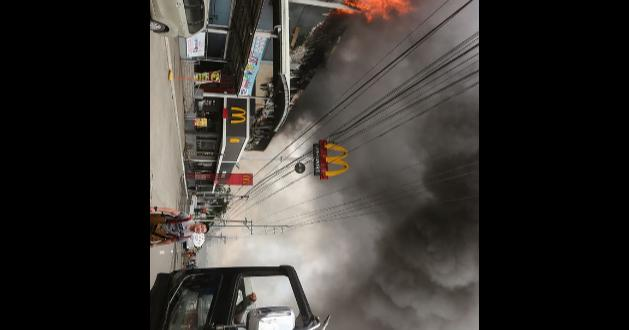fire: (345, 0, 451, 45)
